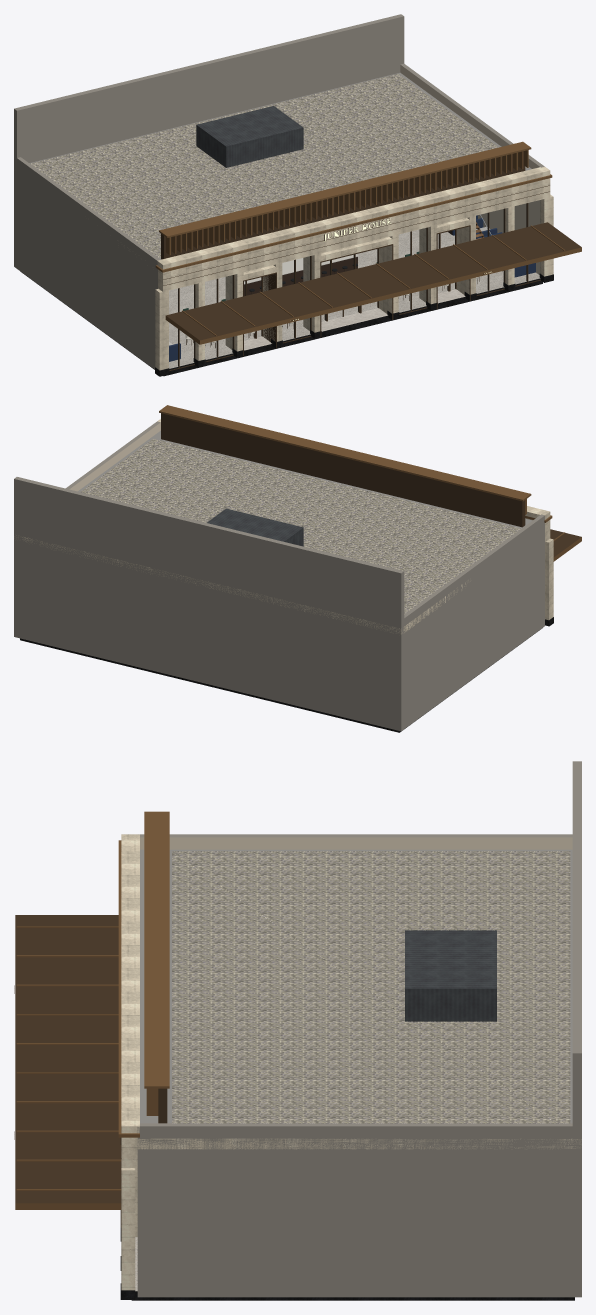
File: juniper_house_LOD0.fbx
3 renders of one model, top to bottom at view 1: azimuth 30°, elevation 25°; view 2: azimuth 150°, elevation 25°; view 3: azimuth 270°, elevation 25°, orthographic. The views are drawn at different scales.
Visible parts, largest first — view 1: B02_LOD0_BUILDING_EXTERIOR_Stone, B02_LOD0_BUILDING_EXTERIOR_Roof, B02_LOD0_FACADE_DETAILS_Bronze, B02_LOD0_BUILDING_EXTERIOR_RearInterface, B02_LOD0_BUILDING_INTERIOR_GroundSlab, B02_LOD0_DISPLAY_OBJECTS_Bar, B02_LOD0_FURNITURE_Dining; view 2: B02_LOD0_BUILDING_EXTERIOR_Stone, B02_LOD0_BUILDING_EXTERIOR_RearInterface, B02_LOD0_BUILDING_EXTERIOR_Roof, B02_LOD0_FACADE_DETAILS_Bronze, B02_LOD0_BUILDING_INTERIOR_GroundSlab; view 3: B02_LOD0_BUILDING_EXTERIOR_Roof, B02_LOD0_BUILDING_EXTERIOR_Stone, B02_LOD0_FACADE_DETAILS_Bronze, B02_LOD0_BUILDING_EXTERIOR_RearInterface, B02_LOD0_BUILDING_INTERIOR_GroundSlab.
Part boxes in pixels (left/top/right/bottom): B02_LOD0_BUILDING_EXTERIOR_Stone: left=14, top=63, right=553, bottom=376; B02_LOD0_BUILDING_EXTERIOR_Roof: left=29, top=72, right=550, bottom=279; B02_LOD0_FACADE_DETAILS_Bronze: left=155, top=141, right=581, bottom=344; B02_LOD0_BUILDING_EXTERIOR_RearInterface: left=14, top=14, right=404, bottom=268; B02_LOD0_BUILDING_INTERIOR_GroundSlab: left=20, top=229, right=542, bottom=376; B02_LOD0_DISPLAY_OBJECTS_Bar: left=244, top=254, right=358, bottom=296; B02_LOD0_FURNITURE_Dining: left=169, top=215, right=535, bottom=361; B02_LOD0_BUILDING_EXTERIOR_Stone: left=14, top=413, right=553, bottom=731; B02_LOD0_BUILDING_EXTERIOR_RearInterface: left=14, top=477, right=404, bottom=729; B02_LOD0_BUILDING_EXTERIOR_Roof: left=14, top=430, right=550, bottom=634; B02_LOD0_FACADE_DETAILS_Bronze: left=159, top=405, right=581, bottom=561; B02_LOD0_BUILDING_INTERIOR_GroundSlab: left=20, top=628, right=542, bottom=732; B02_LOD0_BUILDING_EXTERIOR_Roof: left=121, top=849, right=581, bottom=1149; B02_LOD0_BUILDING_EXTERIOR_Stone: left=120, top=834, right=581, bottom=1299; B02_LOD0_FACADE_DETAILS_Bronze: left=15, top=811, right=169, bottom=1209; B02_LOD0_BUILDING_EXTERIOR_RearInterface: left=572, top=761, right=581, bottom=1297; B02_LOD0_BUILDING_INTERIOR_GroundSlab: left=131, top=1237, right=574, bottom=1300.
Size of what is drawn, in the model's own units: 30.56 by 24.67 by 12.
